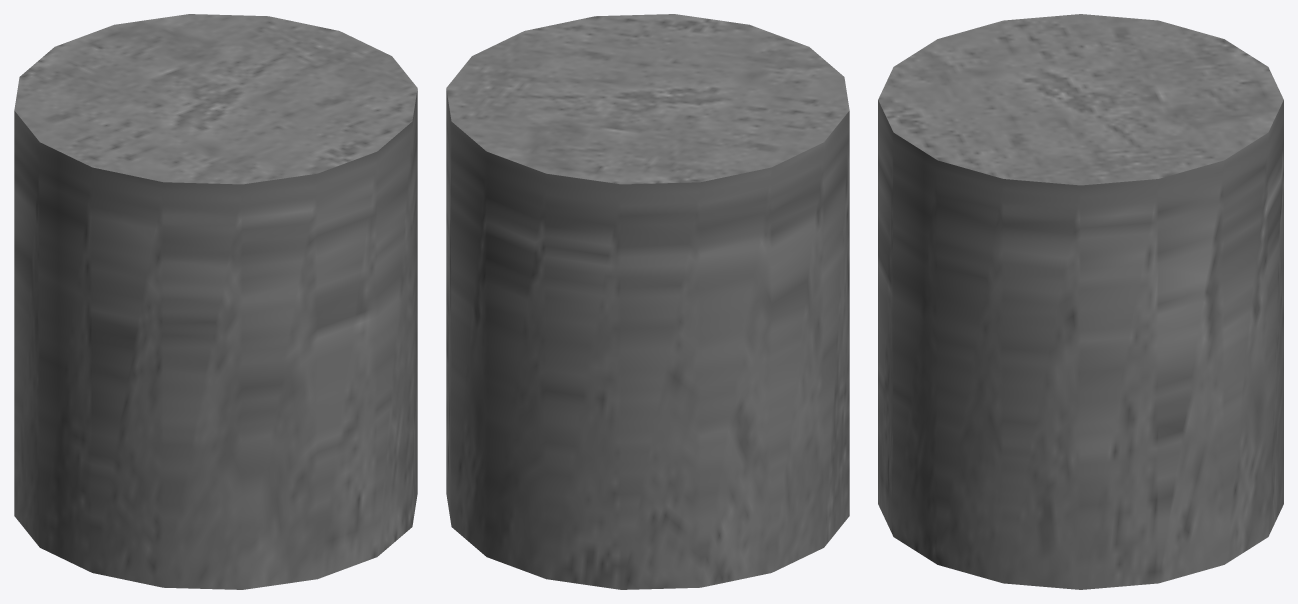
The model's file is icub_neck_2.dae.
3 views of the same model, side by side, from view 1: azimuth 30°, elevation 25°; view 2: azimuth 150°, elevation 25°; view 3: azimuth 270°, elevation 25° (orthographic).
Parts seen in each view (by area): view 1: neck_2_mesh; view 2: neck_2_mesh; view 3: neck_2_mesh.
Boxes of the visible parts, x1,y1,x2,y2 form: neck_2_mesh: [14, 14, 417, 589]; neck_2_mesh: [446, 14, 849, 589]; neck_2_mesh: [878, 14, 1283, 589].
Size of the model in its own units: 0.03 by 0.03 by 0.033.
Materials: 1 (1 with a texture image).
